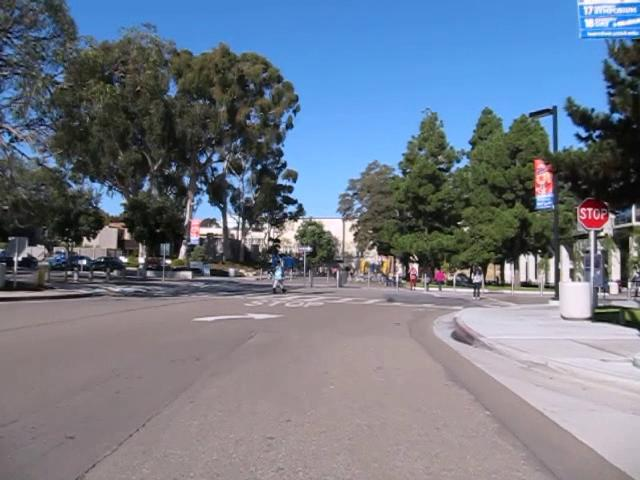stop: (576, 196, 610, 230)
